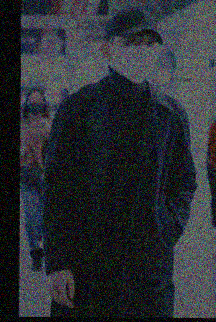with_mask: (112, 33, 158, 84), (25, 92, 45, 114)
